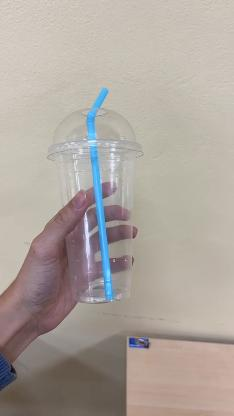Plastic Cup: (49, 105, 145, 306)
